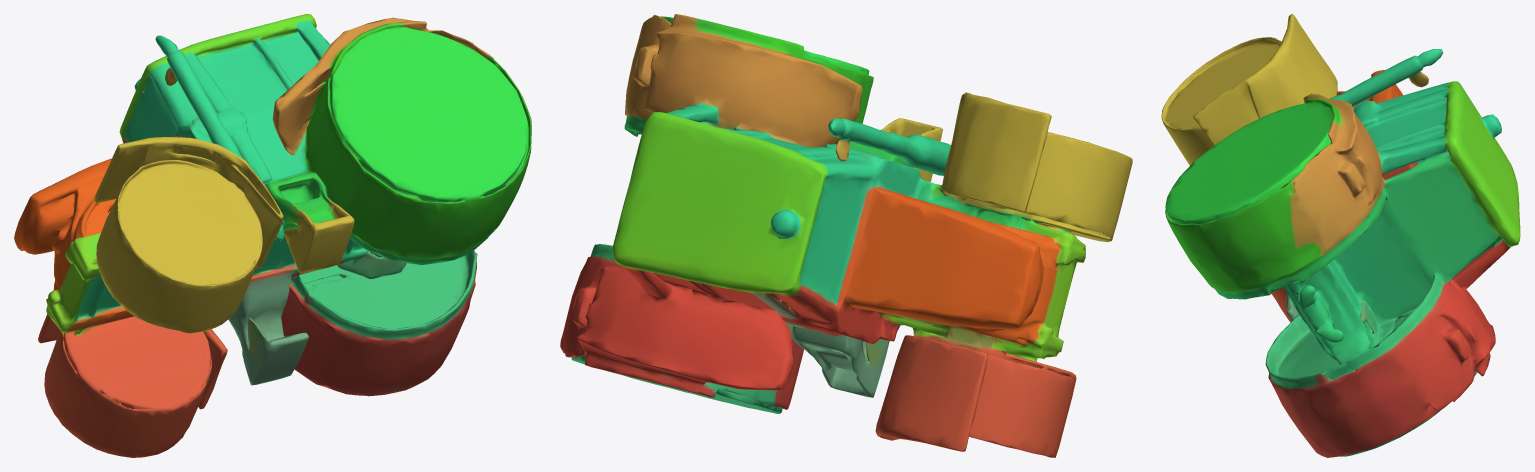
Rendered from tractor.glb.
The picture shows the model from 3 angles, left to right: view 1: azimuth 30°, elevation 25°; view 2: azimuth 150°, elevation 25°; view 3: azimuth 270°, elevation 25°; orthographic projection. The views are drawn at different scales.
Parts seen in each view (by area): view 1: world; view 2: world; view 3: world.
Part boxes in pixels (x1,y1,x2,y2): world: [14, 14, 531, 457]; world: [560, 14, 1132, 457]; world: [1161, 14, 1520, 457].
Size of the model in its own units: 1 by 0.8103 by 0.8.
1 material, 1 textured.
